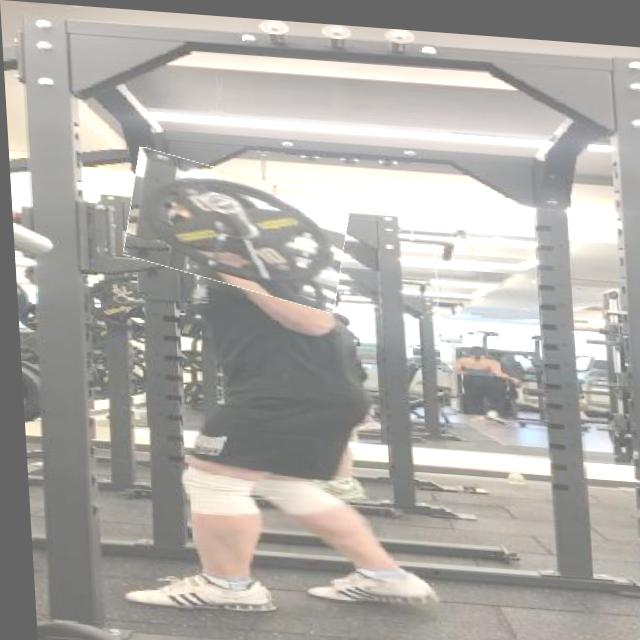barbell: (121, 156, 349, 300)
